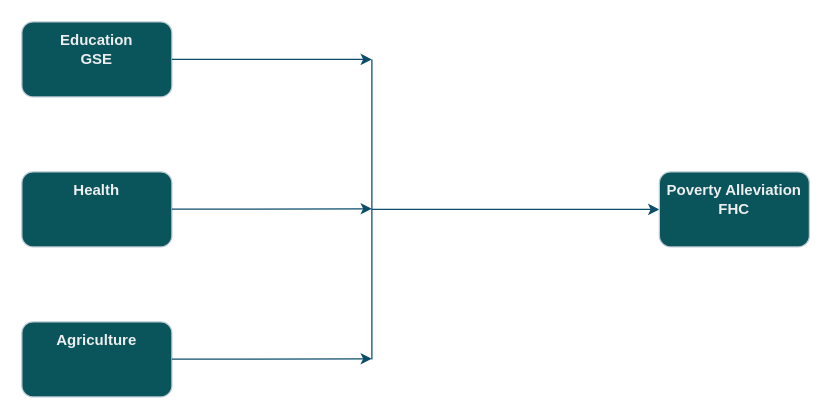
Image size: 831x419. Some labels were removed from this diagram. The box of each missing label's shape, as (x1, y1, x2, y2) in pixels:
GSA: (21, 321, 172, 397)
GSH: (21, 171, 172, 247)
